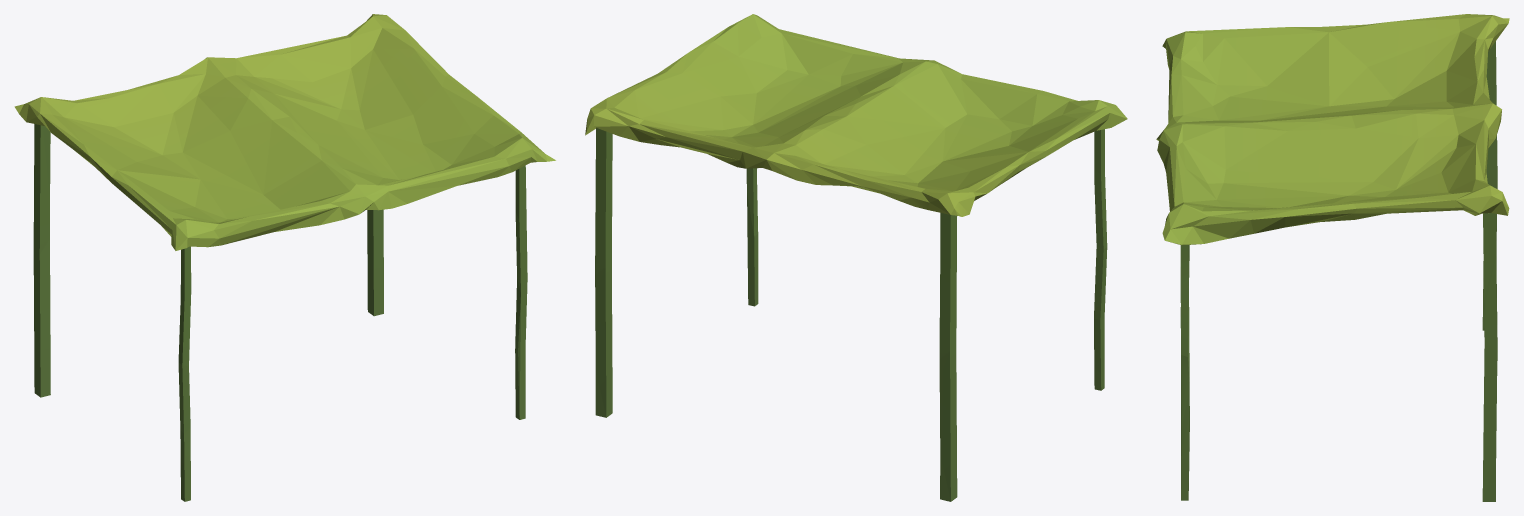
The model's file is Market_Roof_01.fbx.
The picture shows the model from 3 angles, left to right: view 1: azimuth 30°, elevation 25°; view 2: azimuth 150°, elevation 25°; view 3: azimuth 270°, elevation 25°; orthographic projection. The views are drawn at different scales.
Parts seen in each view (by area): view 1: Market_Roof_01; view 2: Market_Roof_01; view 3: Market_Roof_01.
Part boxes in pixels (bbox=[...]): Market_Roof_01: bbox=[14, 14, 555, 501]; Market_Roof_01: bbox=[585, 14, 1127, 501]; Market_Roof_01: bbox=[1156, 14, 1509, 501].
Size of the model in its own units: 2.72 by 2.03 by 2.08.
